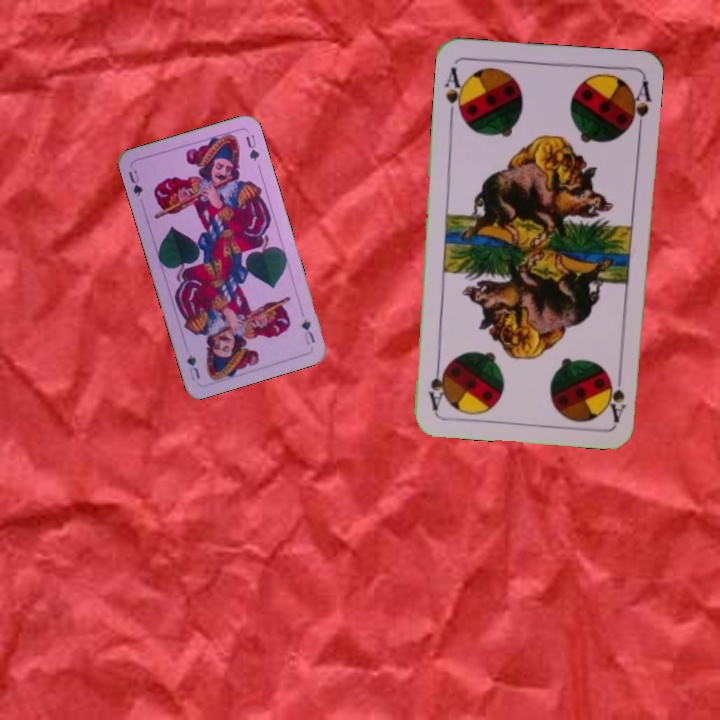GU: (124, 166, 145, 199), (297, 315, 317, 347)
SA: (440, 63, 468, 122), (604, 365, 629, 424)
